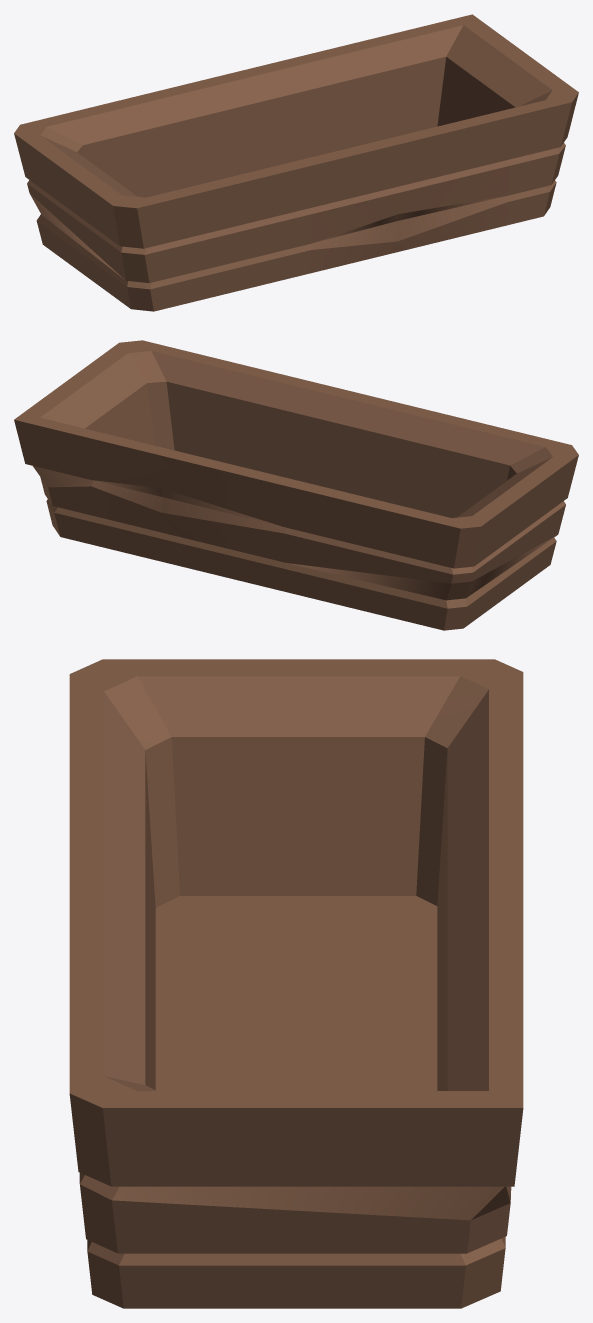
Rendered from Chest_Large_Body.fbx.
The picture shows the model from 3 angles, top to bottom: view 1: azimuth 30°, elevation 25°; view 2: azimuth 150°, elevation 25°; view 3: azimuth 270°, elevation 25°; orthographic projection. The views are drawn at different scales.
Parts seen in each view (by area): view 1: Chest_Large_Body; view 2: Chest_Large_Body; view 3: Chest_Large_Body.
Boxes of the visible parts, bbox=[...] form: Chest_Large_Body: bbox=[14, 14, 578, 311]; Chest_Large_Body: bbox=[14, 340, 578, 630]; Chest_Large_Body: bbox=[69, 659, 523, 1308].
Size of the model in its own units: 1.97 by 0.84 by 0.4556.
